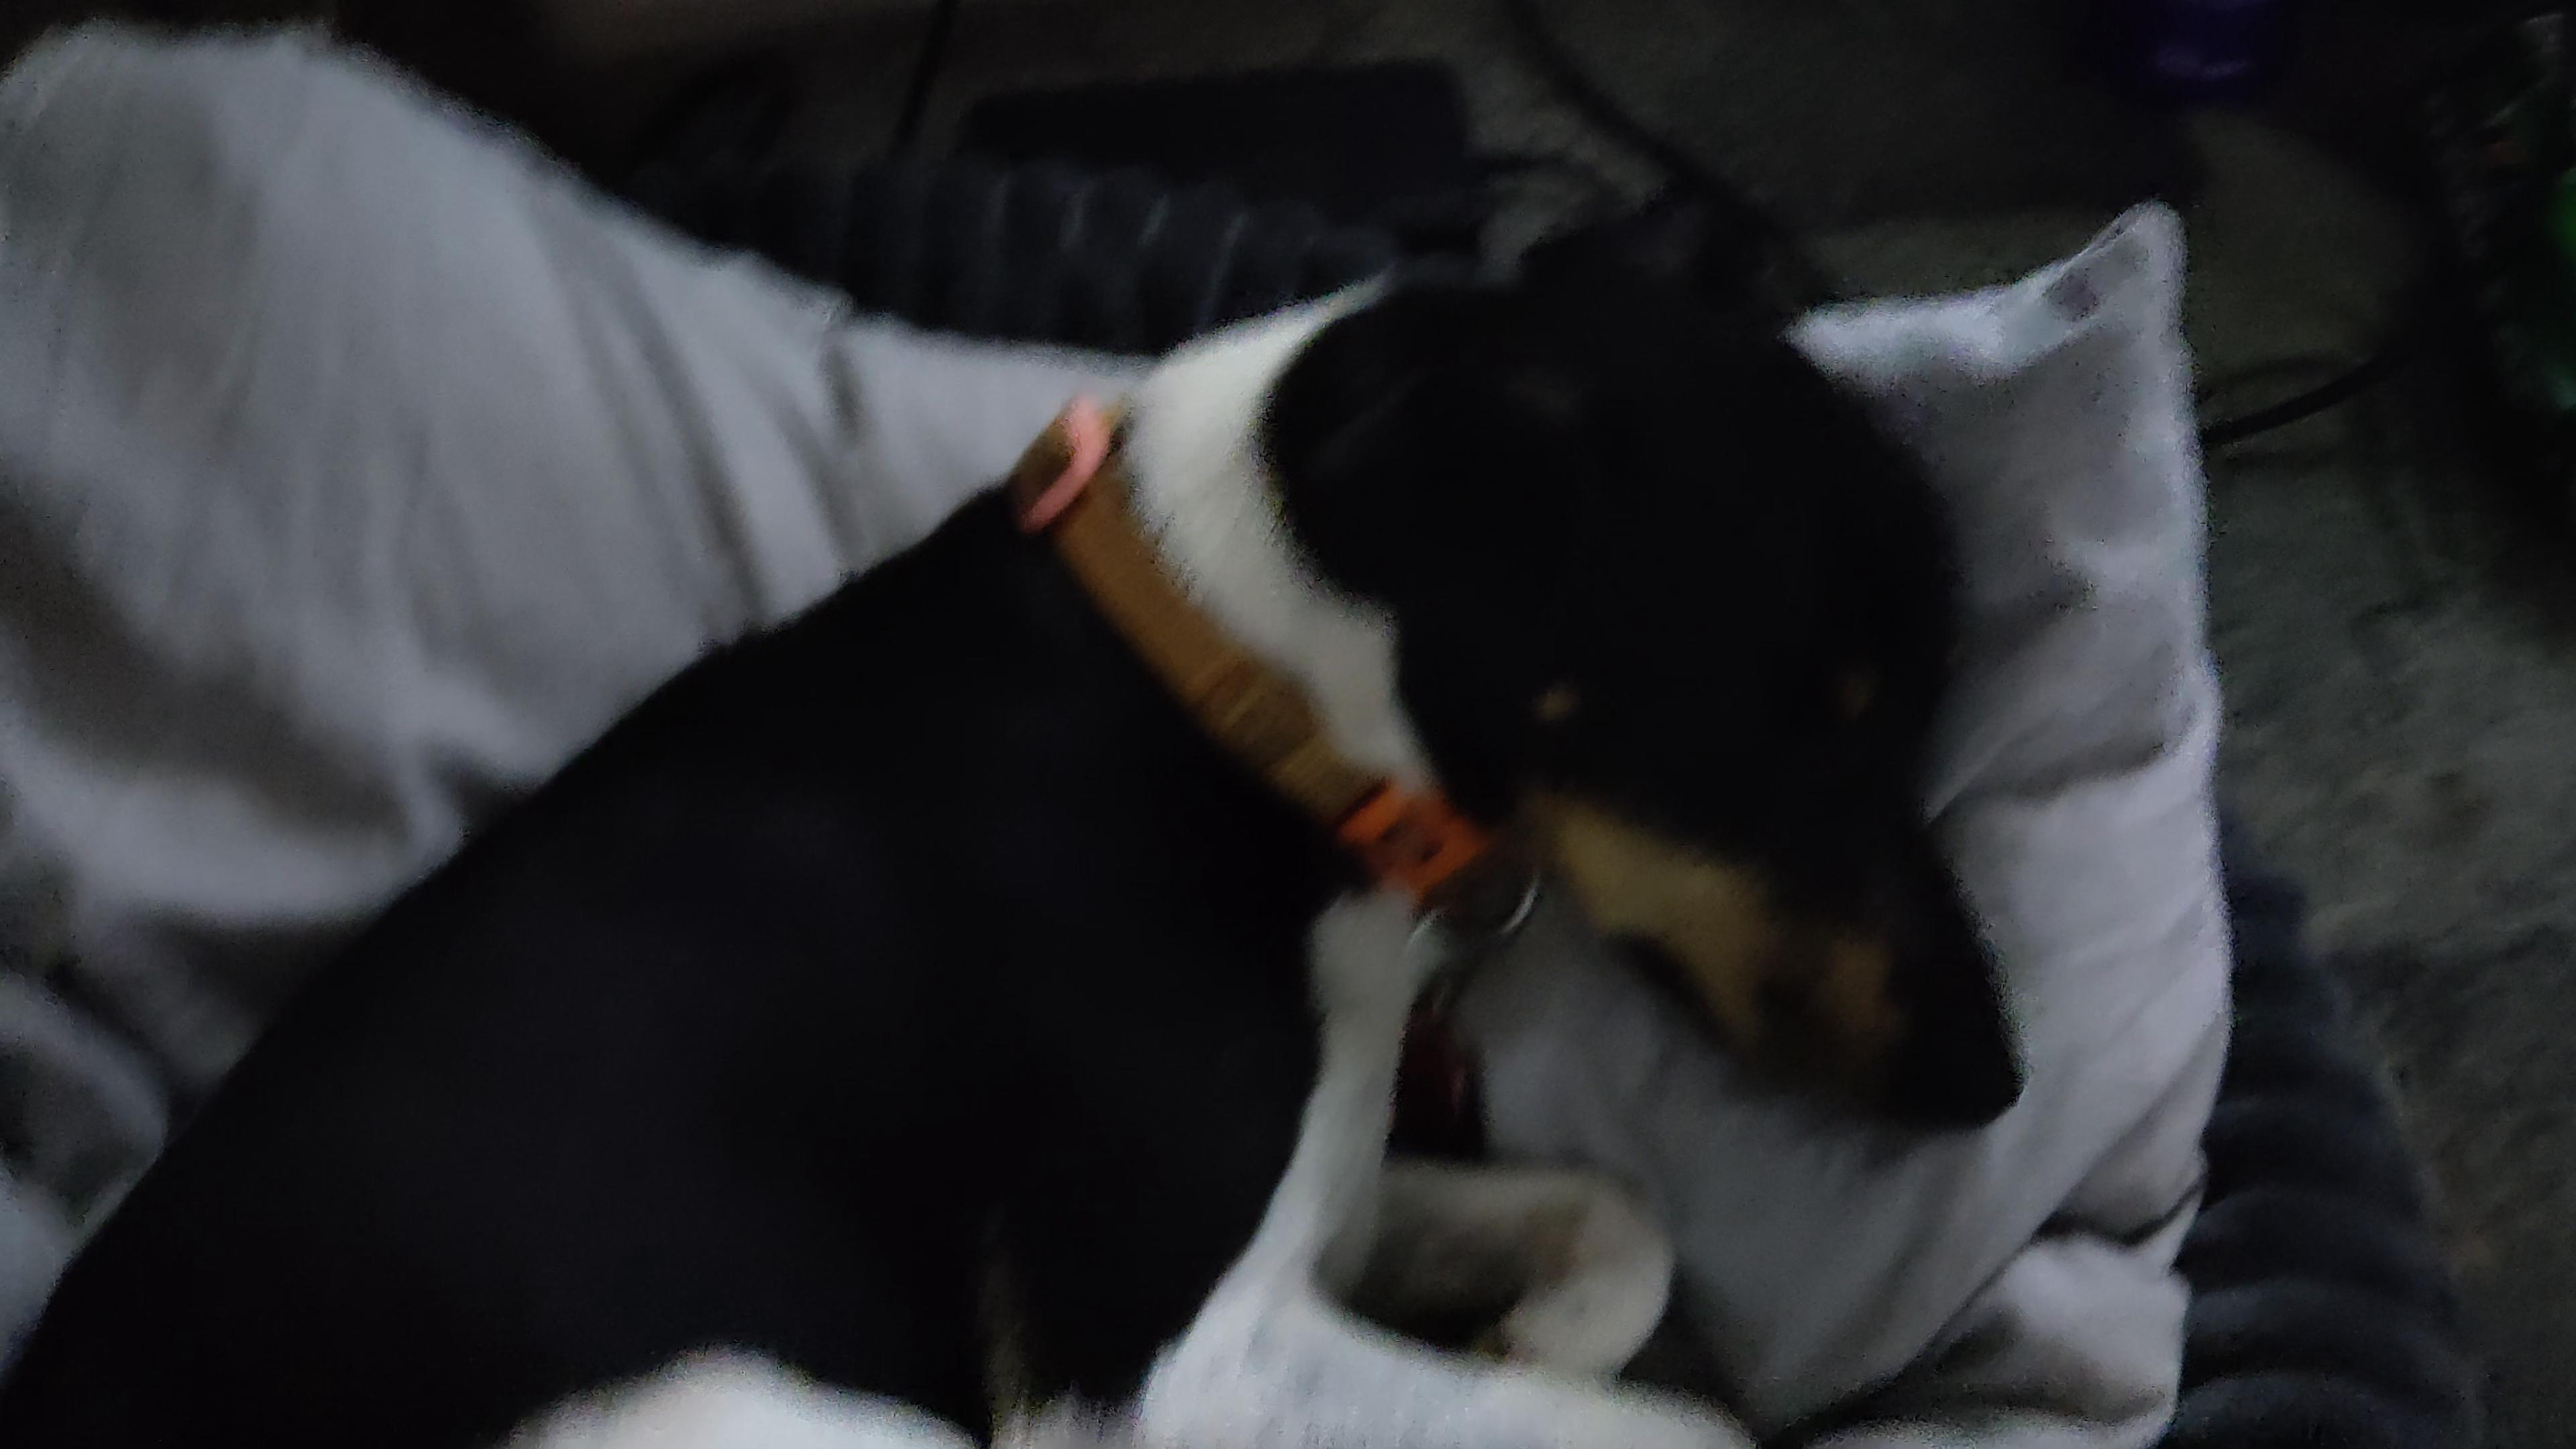Dog: (0, 165, 2043, 1449)
